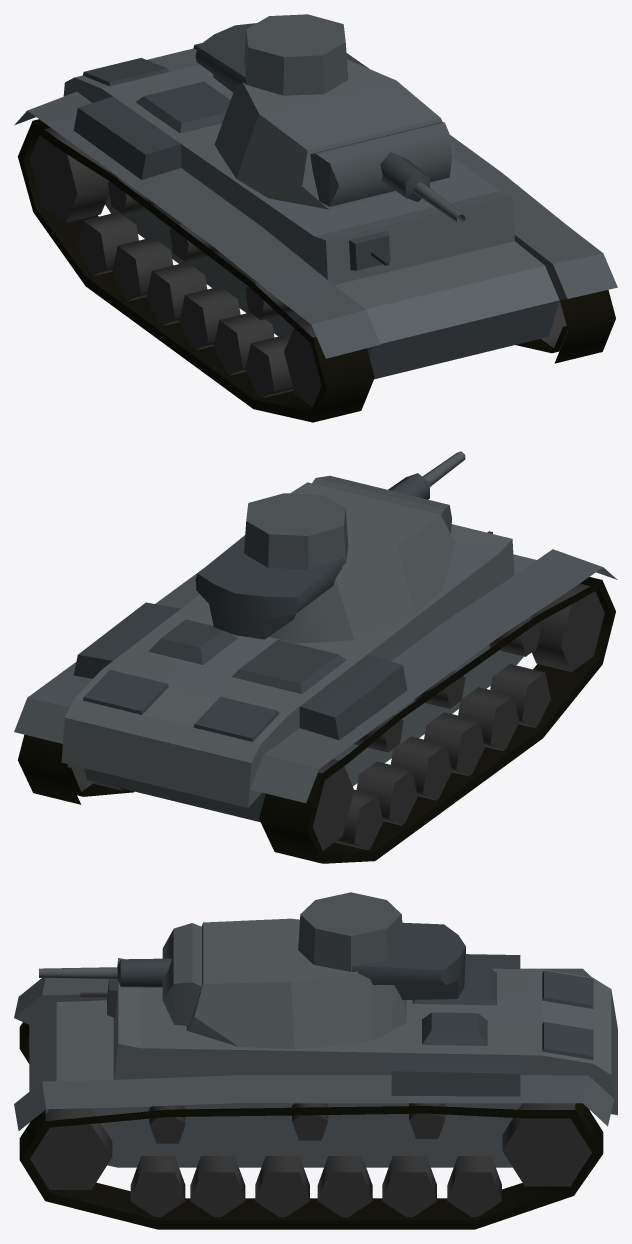
File: LPTank5.fbx
3 views of the same model, one above another, from view 1: azimuth 30°, elevation 25°; view 2: azimuth 150°, elevation 25°; view 3: azimuth 270°, elevation 25° (orthographic). The views are drawn at different scales.
Visible parts, largest first — view 1: Body, Turret; view 2: Body, Turret; view 3: Body, Turret.
Boxes of the visible parts, bbox=[...] form: Body: bbox=[14, 43, 617, 422]; Turret: bbox=[195, 14, 465, 223]; Body: bbox=[14, 524, 617, 863]; Turret: bbox=[195, 451, 465, 643]; Body: bbox=[14, 954, 617, 1229]; Turret: bbox=[39, 892, 465, 1049].
Size of the model in its own units: 225 by 194 by 427.
